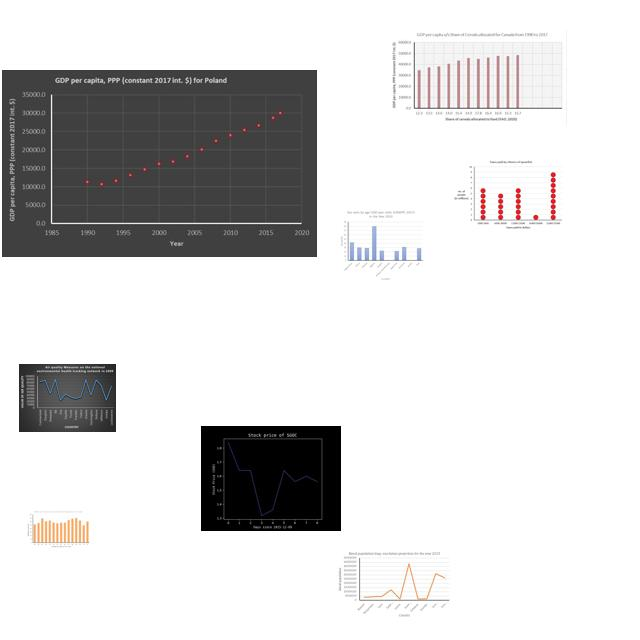Graph: (2, 70, 317, 257), (388, 30, 567, 126), (201, 426, 341, 531), (451, 158, 564, 232), (338, 550, 451, 617), (19, 364, 116, 432), (338, 209, 424, 281), (26, 510, 91, 549)
